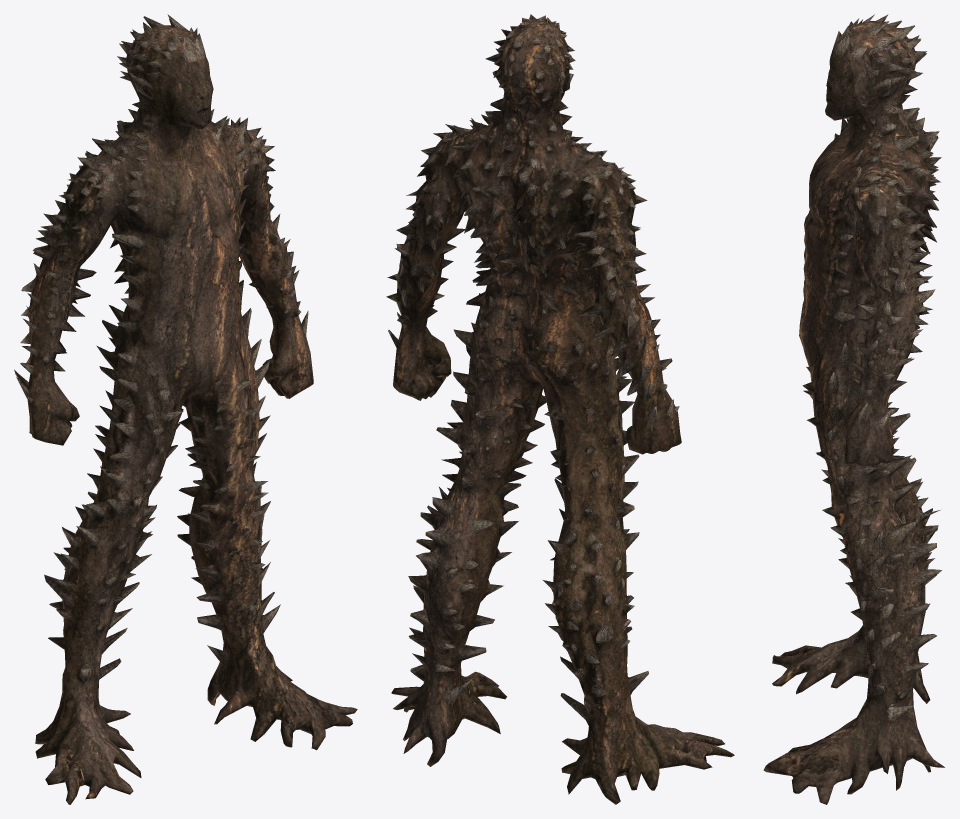
The model's file is MZ4250 - Needle Blight 2.glb.
The picture shows the model from 3 angles, left to right: view 1: azimuth 30°, elevation 25°; view 2: azimuth 150°, elevation 25°; view 3: azimuth 270°, elevation 25°; orthographic projection. The views are drawn at different scales.
Visible parts, largest first — view 1: NeedleBlight; view 2: NeedleBlight; view 3: NeedleBlight.
Boxes of the visible parts, <box> form: NeedleBlight: <box>14,14,357,804</box>; NeedleBlight: <box>386,14,734,804</box>; NeedleBlight: <box>763,14,944,804</box>.
Bounding box in the file's own units: 0.562 × 1.25 × 0.2869.
1 material, 1 textured.
